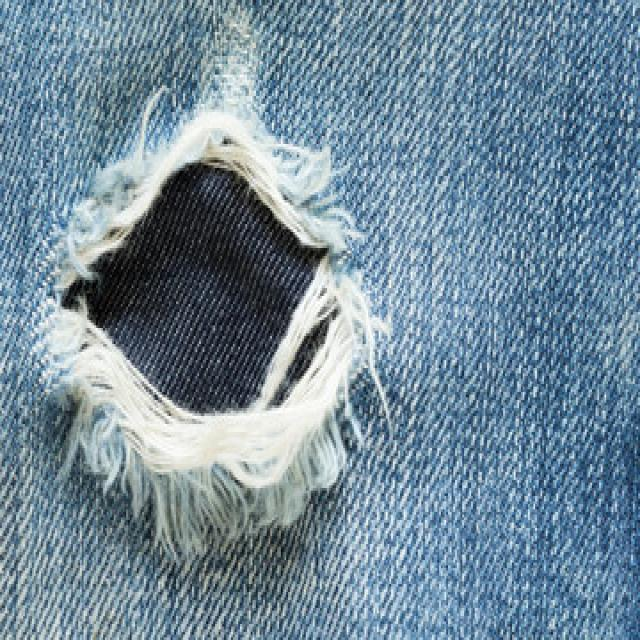Hole: (48, 110, 383, 554)
